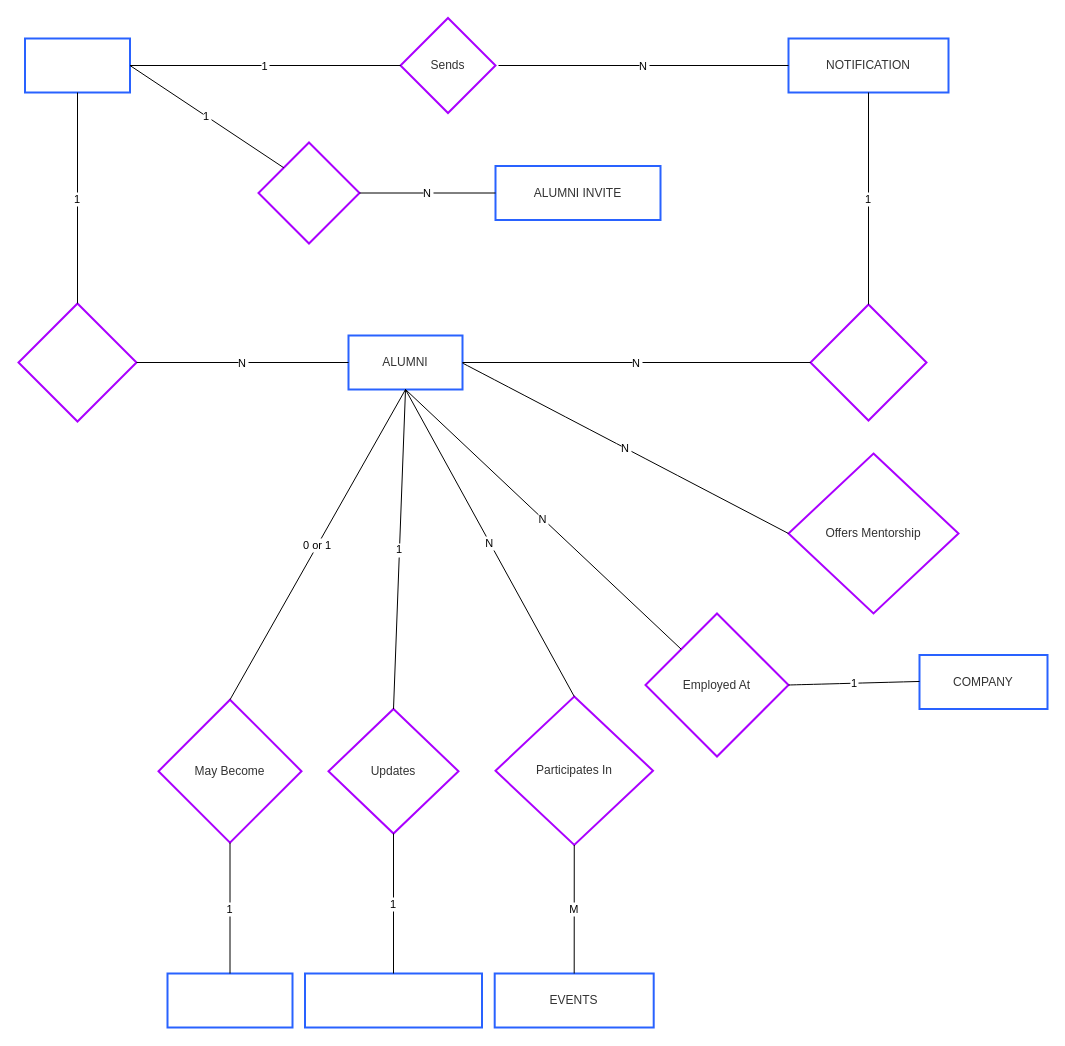
Image size: 1065x1046. Some labels were removed from this diagram. The shapes that lost their labels are listed below. From the top down, each one's centre as x and y in pixels, then its label:
At [77,65]: "ADMIN".
At [308,192]: "Invites".
At [77,362]: "Registers".
At [868,362]: "Receives".
At [229,1000]: "STUDENT".
At [393,1000]: "ALUMNI PROFILE".
